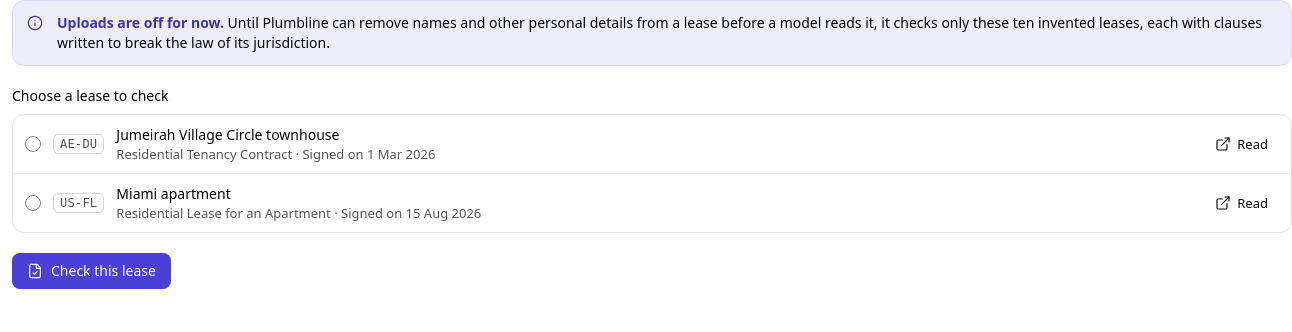
Test case: SamplePicker › says how to recover when the lease cannot be loaded
The width and height of the screenshot is (1292, 332).
Click the radio button labelled "Miami apartment" at (33, 203), box x1=25 y1=195 x2=41 y2=211
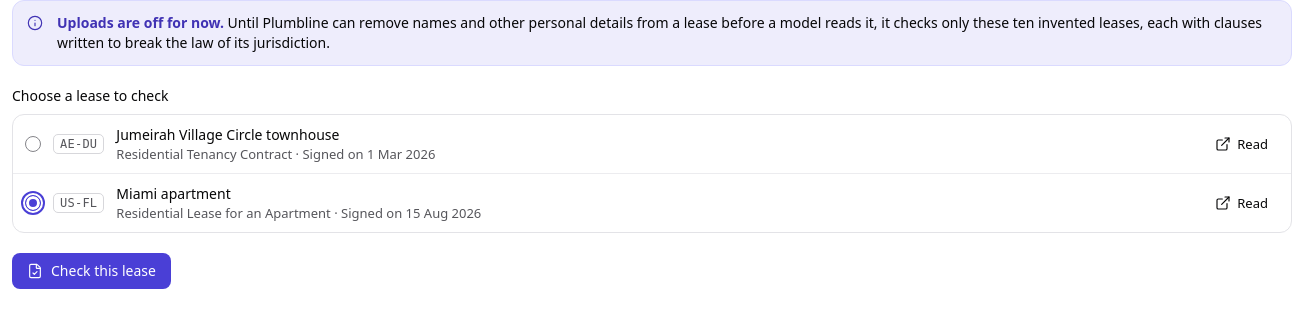
Click the button "Check this lease" at (91, 271), box x1=12 y1=253 x2=171 y2=289
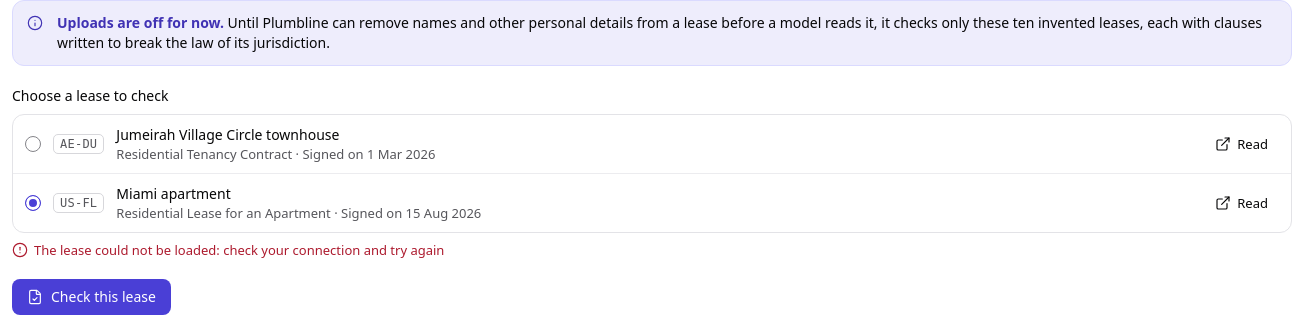
Expected: the button "Check this lease" is enabled, x1=12 y1=279 x2=171 y2=315
Now the text "The lease could not be loaded: check your connection" is shown, box x1=34 y1=241 x2=444 y2=259
